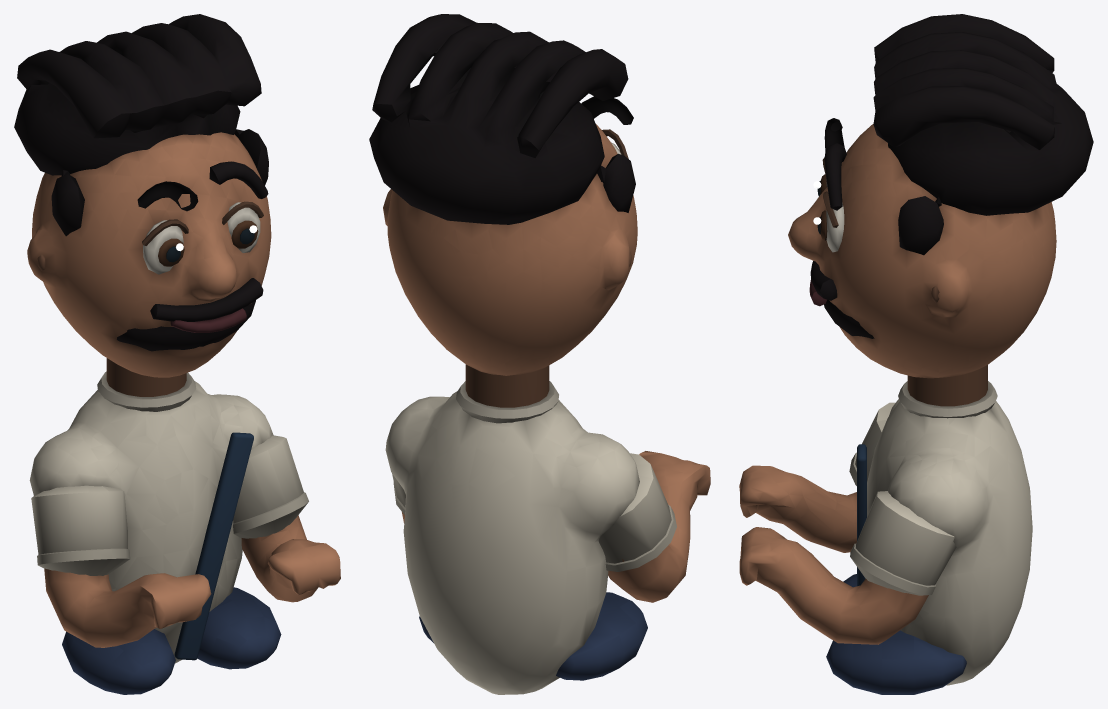
Rendered from semilla.glb.
3 views of the same model, side by side, from view 1: azimuth 30°, elevation 25°; view 2: azimuth 150°, elevation 25°; view 3: azimuth 270°, elevation 25° (orthographic). The views are drawn at different scales.
Parts seen in each view (by area): view 1: semilla-head-root-soft-c88b68, semilla-head-root-soft-161214, semilla-root-soft-eee5d0, semilla-root-344465-r85, semilla-arm-right-soft-c88b68, semilla-arm-right-eee5d0-r85, semilla-arm-left-soft-c88b68, semilla-root-263b54-r70, semilla-head-root-161214-r85, semilla-arm-left-eee5d0-r85, semilla-head-root-161214-r70, semilla-arm-right-beb7a6-r85 (+7 smaller); view 2: semilla-root-soft-eee5d0, semilla-head-root-soft-161214, semilla-head-root-soft-c88b68, semilla-arm-right-soft-c88b68, semilla-root-344465-r85, semilla-arm-right-eee5d0-r85, semilla-root-c88b68-r70, semilla-root-c8c0af-r85, semilla-arm-right-beb7a6-r85, semilla-head-root-161214-r70; view 3: semilla-head-root-soft-c88b68, semilla-head-root-soft-161214, semilla-root-soft-eee5d0, semilla-arm-left-soft-c88b68, semilla-arm-right-soft-c88b68, semilla-root-344465-r85, semilla-arm-left-eee5d0-r85, semilla-root-c88b68-r70, semilla-root-c8c0af-r85, semilla-head-root-161214-r70, semilla-arm-left-beb7a6-r85, semilla-head-root-161214-r85 (+3 smaller).
Boxes of the visible parts, box(x1,y1,x2,y2) form: semilla-head-root-soft-c88b68: box(27, 132, 271, 377); semilla-head-root-soft-161214: box(14, 14, 268, 236); semilla-root-soft-eee5d0: box(29, 381, 273, 663); semilla-root-344465-r85: box(62, 587, 281, 694); semilla-arm-right-soft-c88b68: box(44, 568, 211, 647); semilla-arm-right-eee5d0-r85: box(31, 485, 127, 554); semilla-arm-left-soft-c88b68: box(241, 515, 340, 602); semilla-root-263b54-r70: box(174, 432, 253, 660); semilla-head-root-161214-r85: box(117, 278, 263, 351); semilla-arm-left-eee5d0-r85: box(233, 435, 303, 523); semilla-head-root-161214-r70: box(137, 161, 268, 211); semilla-arm-right-beb7a6-r85: box(37, 548, 130, 575); semilla-root-soft-eee5d0: box(385, 391, 639, 694); semilla-head-root-soft-161214: box(369, 14, 635, 224); semilla-head-root-soft-c88b68: box(383, 124, 637, 375); semilla-arm-right-soft-c88b68: box(608, 451, 710, 602); semilla-root-344465-r85: box(419, 592, 647, 680); semilla-arm-right-eee5d0-r85: box(598, 453, 671, 563); semilla-root-c88b68-r70: box(465, 364, 549, 407); semilla-root-c8c0af-r85: box(456, 381, 558, 423); semilla-arm-right-beb7a6-r85: box(605, 504, 676, 571); semilla-head-root-161214-r70: box(581, 96, 633, 124); semilla-head-root-soft-c88b68: box(788, 124, 1056, 378); semilla-head-root-soft-161214: box(873, 14, 1093, 255); semilla-root-soft-eee5d0: box(867, 399, 1032, 685); semilla-arm-left-soft-c88b68: box(739, 527, 928, 644); semilla-arm-right-soft-c88b68: box(739, 465, 856, 552); semilla-root-344465-r85: box(826, 574, 966, 694); semilla-arm-left-eee5d0-r85: box(856, 491, 956, 585); semilla-root-c88b68-r70: box(907, 365, 987, 406); semilla-root-c8c0af-r85: box(898, 381, 997, 418); semilla-head-root-161214-r70: box(824, 118, 846, 210); semilla-arm-left-beb7a6-r85: box(850, 543, 936, 595); semilla-head-root-161214-r85: box(810, 261, 874, 338).
Size of the model in its own units: 1.09 by 2.5 by 1.28.
